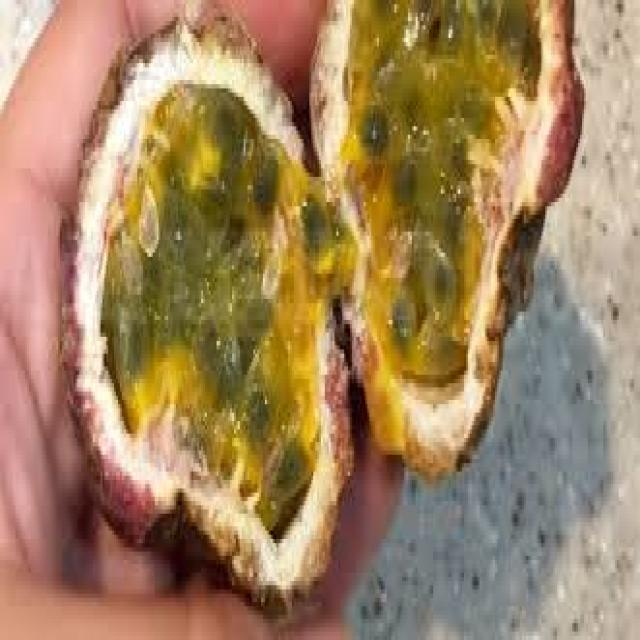food_waste: (62, 0, 582, 606)
